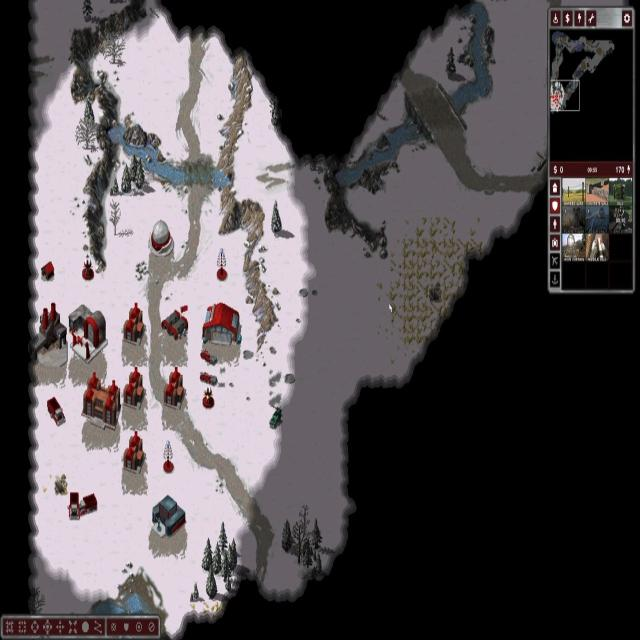bingying: (160, 310, 188, 339)
dianchang: (123, 365, 145, 409), (124, 429, 146, 472), (164, 365, 184, 408), (124, 302, 144, 343)
jidi: (68, 303, 106, 362)
jungongchang: (202, 302, 241, 344)
kuangchang: (31, 303, 68, 370)
leida: (150, 219, 174, 256)
